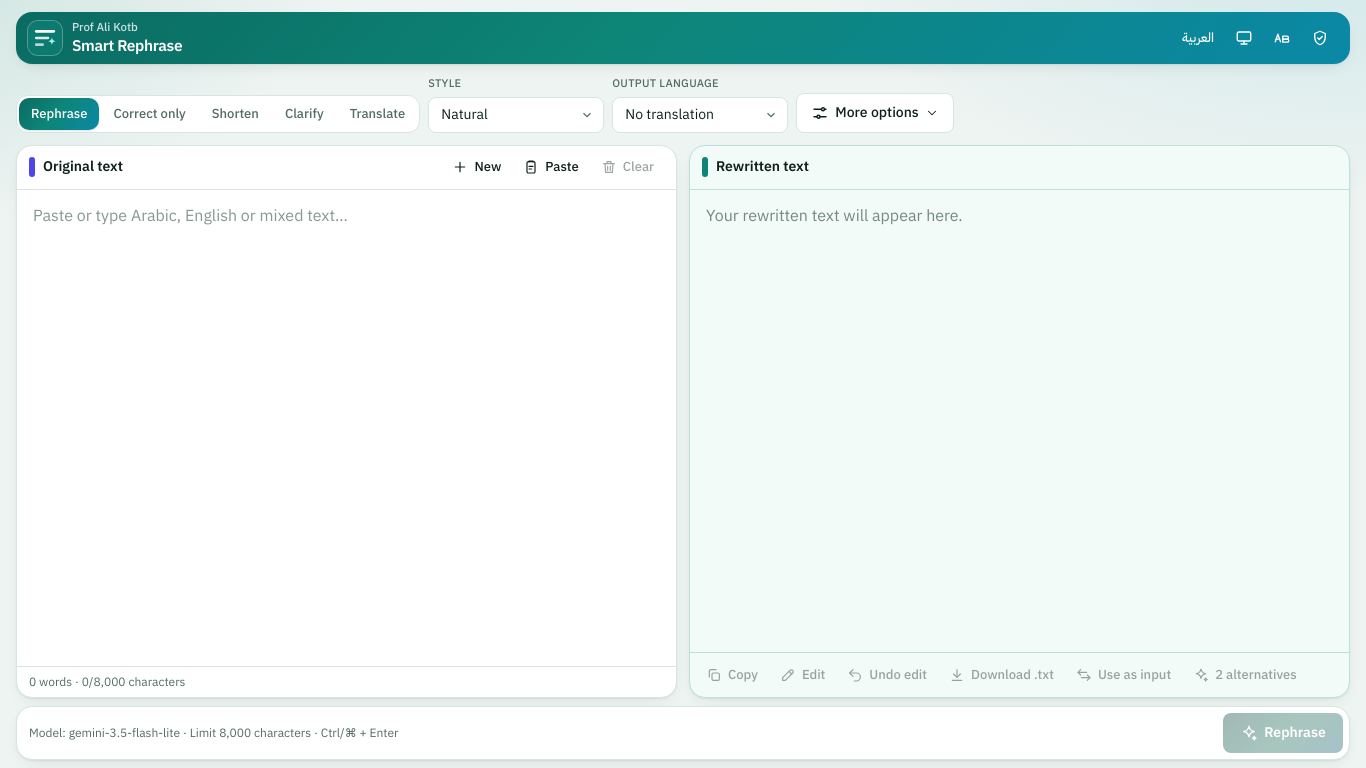
Test case: App › streams a result, keeps input, and ties the result to the input
Type "patient no fever" into the text box named "Original text". click: [346, 428]
box: left=17, top=190, right=676, bottom=666
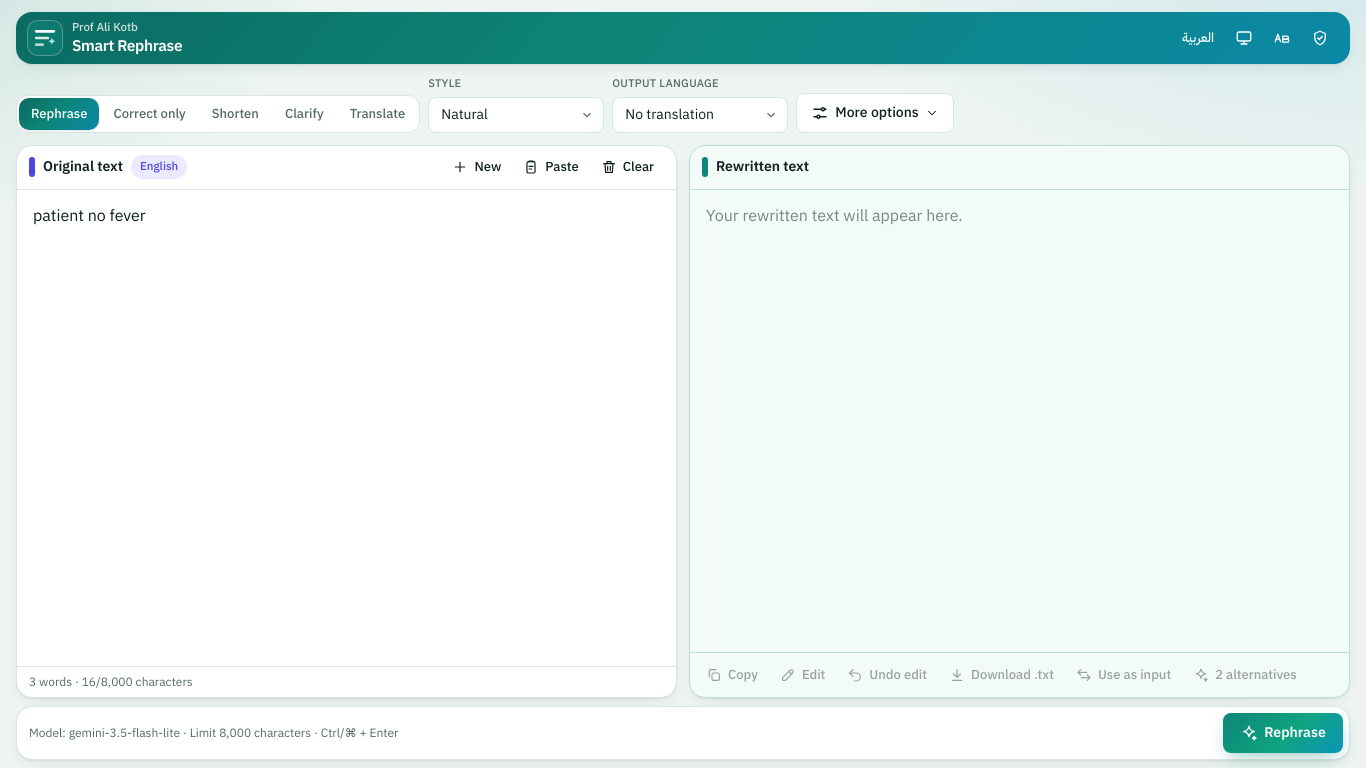
Click the button "Rephrase". click: [1283, 733]
box: left=1223, top=713, right=1343, bottom=753
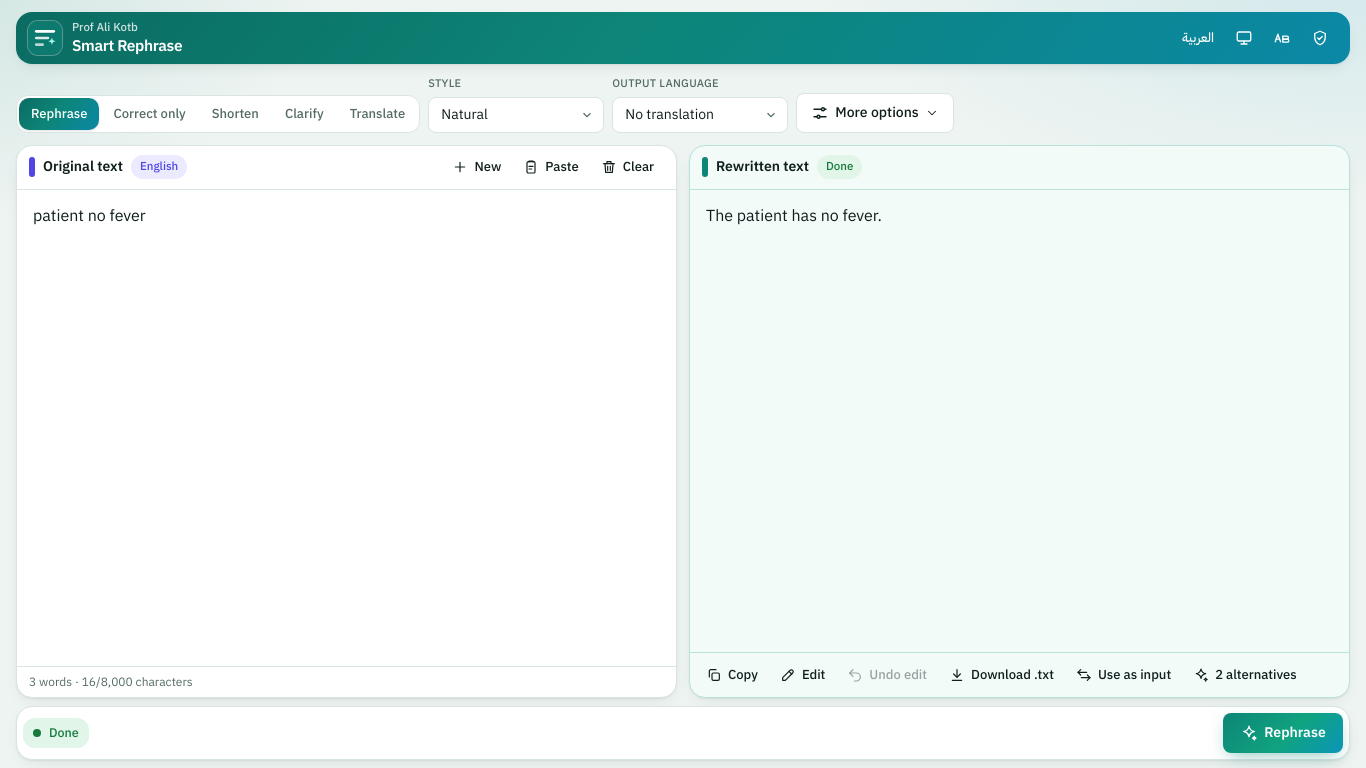
Now the text "The patient has no fever." is shown, box left=706, top=204, right=882, bottom=228
Replace the text in the text box named "Original text" with "patient no fever!". click: [346, 428]
box: left=17, top=190, right=676, bottom=666
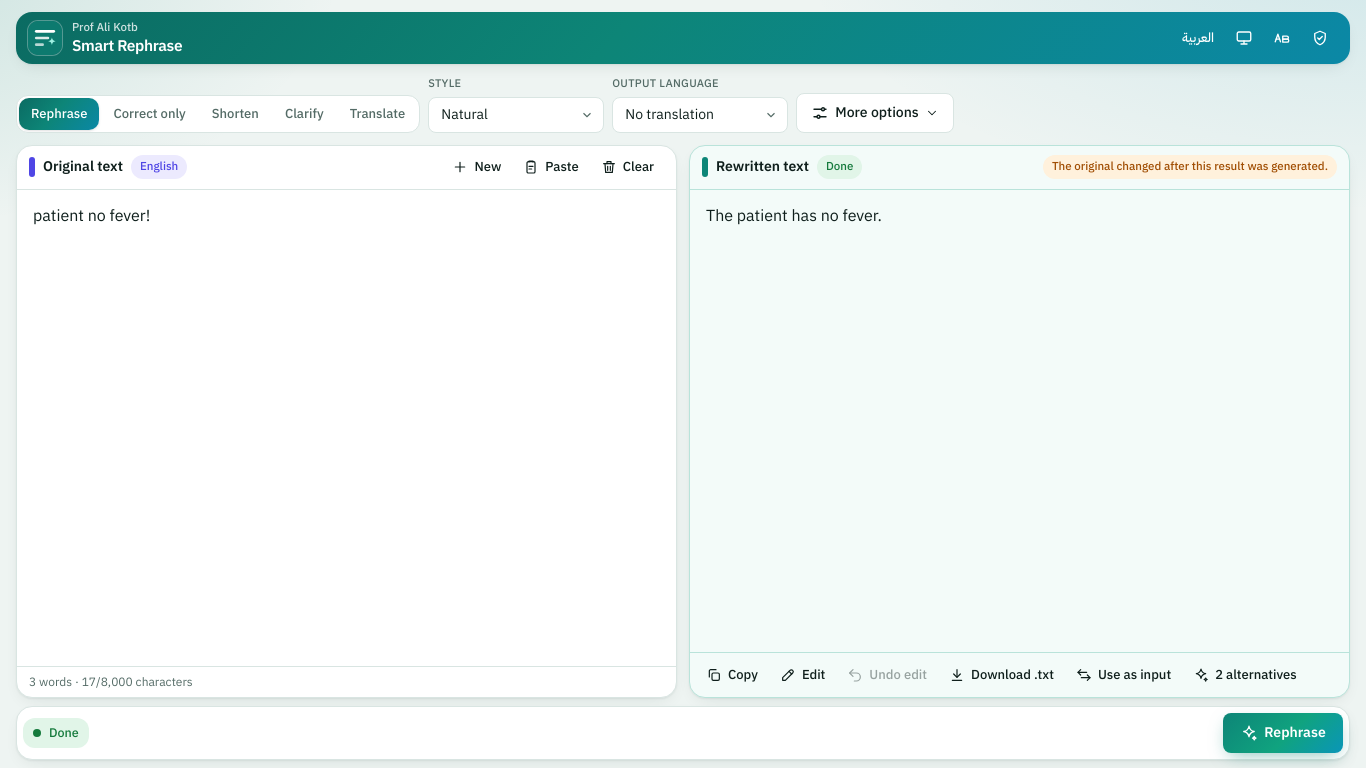
Now the text "The original changed after this result was generated." is shown, box left=1043, top=155, right=1337, bottom=179
